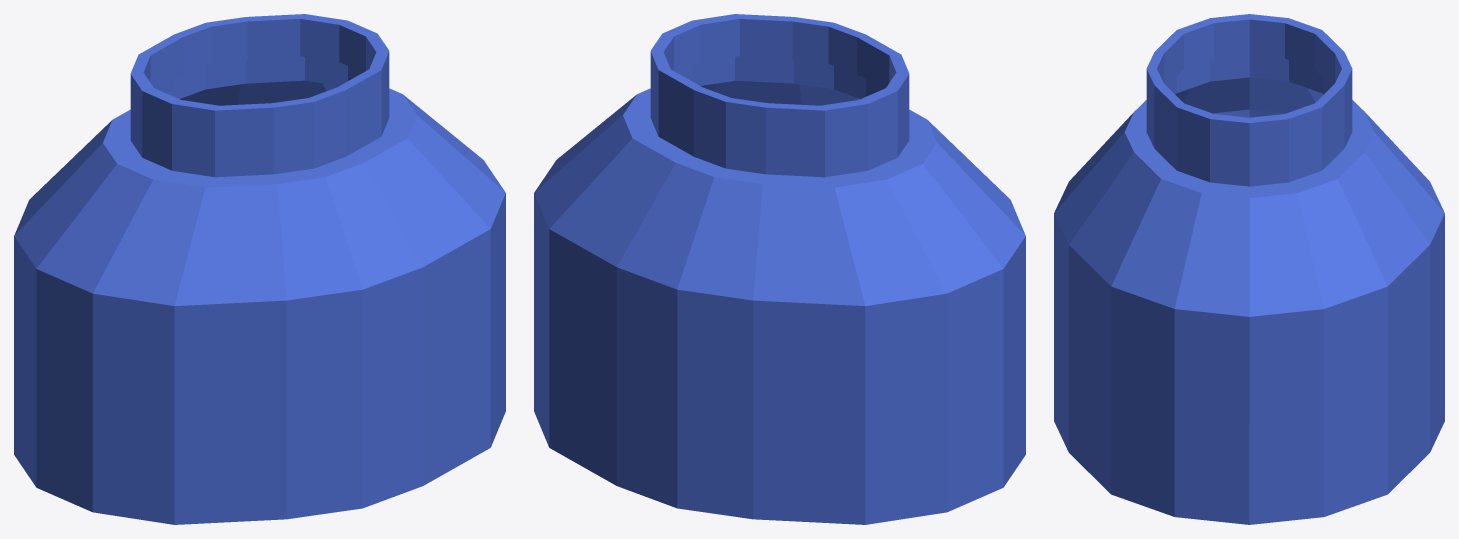
File: Tintero.fbx
3 renders of one model, left to right at view 1: azimuth 30°, elevation 25°; view 2: azimuth 150°, elevation 25°; view 3: azimuth 270°, elevation 25°, orthographic. The views are drawn at different scales.
Visible parts, largest first — view 1: Tintero; view 2: Tintero; view 3: Tintero.
Part boxes in pixels (<box>): Tintero: <box>14,14,505,524</box>; Tintero: <box>534,14,1025,524</box>; Tintero: <box>1054,14,1444,524</box>.
Bounding box in the file's own units: 182 × 144 × 145.
